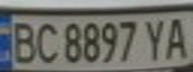7: (118, 17, 142, 63)
8: (78, 19, 103, 64), (60, 19, 84, 64)
9: (100, 18, 121, 63)
A: (160, 14, 193, 61)
B: (6, 18, 39, 64)
C: (30, 19, 60, 64)
Y: (139, 16, 172, 62)
